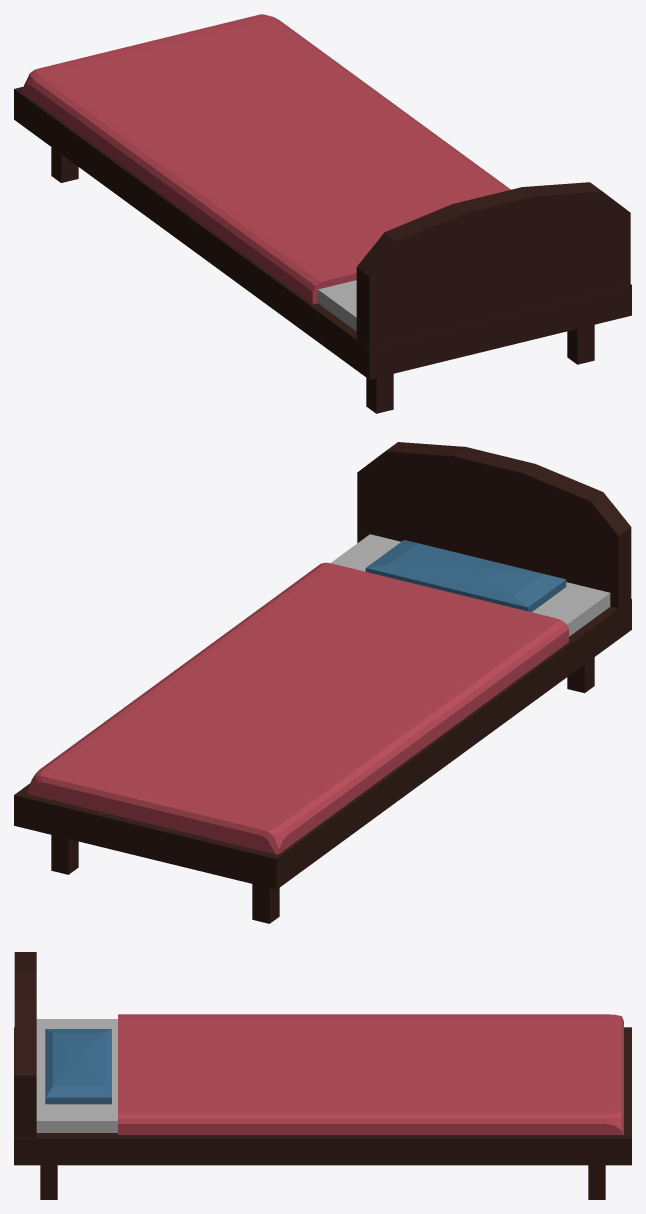
The model's file is bed.fbx.
3 renders of one model, top to bottom at view 1: azimuth 30°, elevation 25°; view 2: azimuth 150°, elevation 25°; view 3: azimuth 270°, elevation 25°, orthographic. The views are drawn at different scales.
Parts seen in each view (by area): view 1: Cube.004; view 2: Cube.004; view 3: Cube.004.
Boxes of the visible parts, x1,y1,x2,y2 form: Cube.004: [14, 14, 631, 413]; Cube.004: [14, 442, 631, 923]; Cube.004: [14, 952, 631, 1199].
Bounding box in the file's own units: 209 × 147 × 490.
